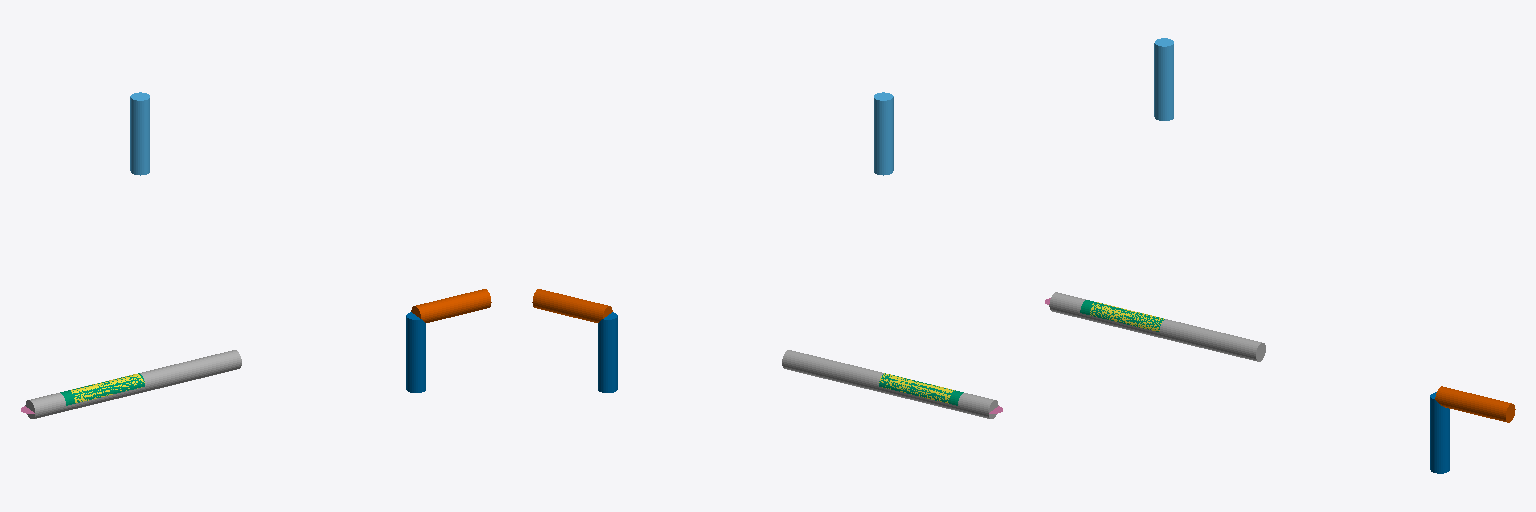
robot.urdf — reach_bravo_7:
<?xml version="1.0"?>
<robot name="reach_bravo_7">
  <!-- Link 0 (Base) -->
  <link name="link_0">
    <visual>
      <geometry>
        <box size="0.1 0.1 0.1"/>
      </geometry>
      <origin xyz="0 0 0" rpy="0 0 0"/>
    </visual>
    <inertial>
      <origin xyz="0 0 0" rpy="0 0 0"/>
      <mass value="1.0"/>
      <inertia ixx="0.001" ixy="0" ixz="0" iyy="0.001" iyz="0" izz="0.001"/>
    </inertial>
  </link>

  <!-- Link 1 -->
  <link name="link_1">
    <visual>
      <geometry>
        <cylinder length="41.45" radius="5"/>
      </geometry>
      <origin xyz="0 0 20.725" rpy="0 0 0"/>
    </visual>
  </link>
  <joint name="joint_0_to_1" type="revolute">
    <parent link="link_0"/>
    <child link="link_1"/>
    <origin xyz="0 0 41.45" rpy="0 0 0"/>
    <axis xyz="0 0 1"/>
    <limit lower="-3.14" upper="3.14" effort="10" velocity="1"/>
  </joint>

  <!-- Link 2 -->
  <link name="link_2">
    <visual>
      <geometry>
        <cylinder length="46.0" radius="5"/>
      </geometry>
      <origin xyz="0 0 23.0" rpy="0 0 0"/>
    </visual>
  </link>
  <joint name="joint_1_to_2" type="revolute">
    <parent link="link_1"/>
    <child link="link_2"/>
    <origin xyz="0 0 -117.48" rpy="0 -1.5708 0"/> <!-- -π/2 for α -->
    <axis xyz="0 0 1"/>
    <limit lower="-3.14" upper="3.14" effort="10" velocity="1"/>
  </joint>

  <!-- Link 3 -->
  <link name="link_3">
    <visual>
      <geometry>
        <cylinder length="40.8" radius="5"/>
      </geometry>
      <origin xyz="0 0 20.4" rpy="0 0 0"/>
    </visual>
  </link>
  <joint name="joint_2_to_3" type="fixed">
    <parent link="link_2"/>
    <child link="link_3"/>
    <origin xyz="0 0 0" rpy="0 0 0"/> <!-- θ₂ - π/2 + θₛ, treated as fixed for simplicity -->
  </joint>

  <!-- Link 4 -->
  <link name="link_4">
    <visual>
      <geometry>
        <cylinder length="40.8" radius="5"/>
      </geometry>
      <origin xyz="0 0 20.4" rpy="0 0 0"/>
    </visual>
  </link>
  <joint name="joint_3_to_4" type="revolute">
    <parent link="link_3"/>
    <child link="link_4"/>
    <origin xyz="0 0 -160.26" rpy="0 -1.5708 0"/> <!-- -π/2 for α -->
    <axis xyz="0 0 1"/>
    <limit lower="-3.14" upper="3.14" effort="10" velocity="1"/>
  </joint>

  <!-- Link 5 -->
  <link name="link_5">
    <visual>
      <geometry>
        <cylinder length="40.8" radius="5"/>
      </geometry>
      <origin xyz="0 0 20.4" rpy="0 0 0"/>
    </visual>
  </link>
  <joint name="joint_4_to_5" type="revolute">
    <parent link="link_4"/>
    <child link="link_5"/>
    <origin xyz="0 0 0" rpy="0 -1.5708 0"/> <!-- θ₄ + π, simplified -->
    <axis xyz="0 0 1"/>
    <limit lower="-3.14" upper="3.14" effort="10" velocity="1"/>
  </joint>

  <!-- Link 6 -->
  <link name="link_6">
    <visual>
      <geometry>
        <cylinder length="0.0" radius="5"/>
      </geometry>
      <origin xyz="0 0 0" rpy="0 0 0"/>
    </visual>
  </link>
  <joint name="joint_5_to_6" type="revolute">
    <parent link="link_5"/>
    <child link="link_6"/>
    <origin xyz="0 0 -224.16" rpy="0 1.5708 0"/> <!-- π/2 for α -->
    <axis xyz="0 0 1"/>
    <limit lower="-3.14" upper="3.14" effort="10" velocity="1"/>
  </joint>

  <!-- Link 7 (End Effector) -->
  <link name="link_7">
    <visual>
      <geometry>
        <cylinder length="120.0" radius="5"/>
      </geometry>
      <origin xyz="0 0 60.0" rpy="0 0 0"/>
    </visual>
  </link>
  <joint name="joint_6_to_7" type="fixed">
    <parent link="link_6"/>
    <child link="link_7"/>
    <origin xyz="0 0 0" rpy="0 -1.5708 0"/> <!-- -π/2 for α -->
  </joint>
</robot>

--- Facts derived from the render (not from the file) ---
Views: 3 orthographic renders of the robot side by side, from view 1: azimuth 30°, elevation 25°; view 2: azimuth 150°, elevation 25°; view 3: azimuth 330°, elevation 25°.
Model reach_bravo_7 with 8 links and 7 joints (5 revolute, 2 fixed), rooted at link_0, posed every joint at zero.
Visible links, largest first — view 1: link_7, link_1, link_4, link_5, link_2; view 2: link_7, link_1, link_4, link_5, link_2; view 3: link_7, link_1, link_5, link_4, link_2.
Boxes of the visible links, x1=… form: link_7: x1=25, y1=350, x2=241, y2=418; link_1: x1=130, y1=92, x2=149, y2=175; link_4: x1=406, y1=312, x2=425, y2=392; link_5: x1=411, y1=289, x2=491, y2=322; link_2: x1=60, y1=373, x2=144, y2=405; link_7: x1=782, y1=350, x2=998, y2=418; link_1: x1=874, y1=92, x2=893, y2=175; link_4: x1=598, y1=312, x2=617, y2=392; link_5: x1=532, y1=289, x2=612, y2=322; link_2: x1=879, y1=373, x2=963, y2=405; link_7: x1=1049, y1=292, x2=1265, y2=361; link_1: x1=1154, y1=38, x2=1173, y2=120; link_5: x1=1435, y1=386, x2=1515, y2=422; link_4: x1=1430, y1=392, x2=1449, y2=473; link_2: x1=1080, y1=300, x2=1164, y2=331.
Bounding box of the posed robot: 270 × 10 × 200 m (x, y, z).
Geometry: primitives only (box / cylinder / sphere), no mesh files.
